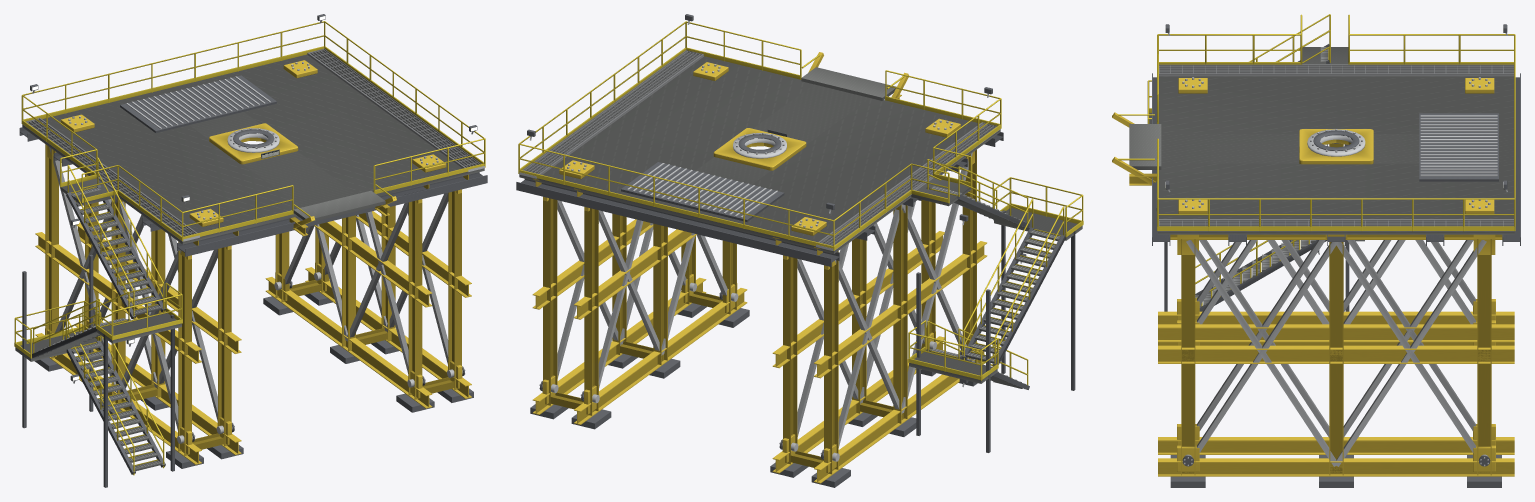
The model's file is substructure_drill_floor_A_lodH.glb.
3 views of the same model, side by side, from view 1: azimuth 30°, elevation 25°; view 2: azimuth 150°, elevation 25°; view 3: azimuth 270°, elevation 25° (orthographic). The views are drawn at different scales.
Visible parts, largest first — view 1: drill_floor_deck, box_on_box_frames_oxide, box_on_box_frames_ivory, handrails_yellow, perimeter_grating_steel, setback_dark, floor_support_beams_dark, box_on_box_frames_dark, stairs_dark, flight_1_yellow, flight_1_deck, setback_steel (+15 smaller); view 2: box_on_box_frames_oxide, drill_floor_deck, box_on_box_frames_ivory, handrails_yellow, perimeter_grating_steel, floor_support_beams_dark, setback_dark, flight_2_yellow, box_on_box_frames_dark, flight_2_deck, stairs_dark, setback_steel (+12 smaller); view 3: drill_floor_deck, box_on_box_frames_oxide, box_on_box_frames_ivory, perimeter_grating_steel, handrails_yellow, setback_dark, setback_steel, hinges_pins_and_gussets_oxide, floor_support_beams_dark, derrick_mounts_oxide, rotary_table_oxide, box_on_box_frames_dark (+11 smaller).
Boxes of the visible parts, box(x1,y1,x2,y2) form: drill_floor_deck: box(22, 51, 484, 244); box_on_box_frames_oxide: box(35, 144, 471, 464); box_on_box_frames_ivory: box(49, 147, 448, 429); handrails_yellow: box(21, 21, 485, 241); perimeter_grating_steel: box(22, 48, 484, 241); setback_dark: box(120, 75, 276, 132); floor_support_beams_dark: box(19, 127, 487, 256); box_on_box_frames_dark: box(34, 291, 473, 468); stairs_dark: box(22, 254, 174, 487); flight_1_yellow: box(14, 300, 164, 475); flight_1_deck: box(15, 330, 162, 470); setback_steel: box(126, 76, 270, 128); box_on_box_frames_oxide: box(532, 149, 987, 483); drill_floor_deck: box(519, 52, 1000, 253); box_on_box_frames_ivory: box(557, 152, 972, 447); handrails_yellow: box(518, 21, 1001, 250); perimeter_grating_steel: box(519, 50, 1000, 250); floor_support_beams_dark: box(516, 132, 1003, 266); setback_dark: box(621, 162, 784, 221); flight_2_yellow: box(963, 177, 1083, 365); box_on_box_frames_dark: box(530, 303, 977, 487); flight_2_deck: box(965, 208, 1082, 363); stairs_dark: box(916, 210, 1075, 452); setback_steel: box(627, 163, 777, 217); drill_floor_deck: box(1158, 76, 1514, 234); box_on_box_frames_oxide: box(1158, 144, 1514, 476); box_on_box_frames_ivory: box(1186, 240, 1486, 466); perimeter_grating_steel: box(1158, 64, 1513, 231); handrails_yellow: box(1157, 34, 1515, 231); setback_dark: box(1419, 113, 1498, 181); setback_steel: box(1420, 115, 1497, 176); hinges_pins_and_gussets_oxide: box(1177, 240, 1495, 471); floor_support_beams_dark: box(1152, 73, 1520, 245); derrick_mounts_oxide: box(1178, 78, 1494, 213); rotary_table_oxide: box(1299, 129, 1373, 164); box_on_box_frames_dark: box(1170, 455, 1501, 487).
Size of the model in its own units: 15.26 by 10.54 by 12.83.
Materials: 7 (7 with a texture image).
